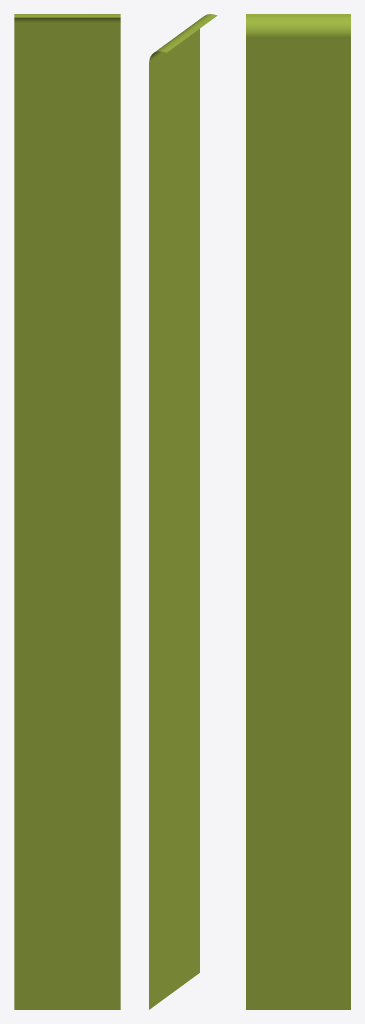
Rendered from Cachoeira.fbx.
3 renders of one model, left to right at view 1: azimuth 90°, elevation 25°; view 2: azimuth 150°, elevation 25°; view 3: azimuth 270°, elevation 25°, orthographic. The views are drawn at different scales.
Parts seen in each view (by area): view 1: Cachoeira; view 2: Cachoeira; view 3: Cachoeira.
Part boxes in pixels (box(x1,y1,x2,y2)): Cachoeira: box(14, 14, 120, 1009); Cachoeira: box(149, 14, 217, 1009); Cachoeira: box(246, 14, 350, 1009).
Bounding box in the file's own units: 20.06 × 1040 × 100.
